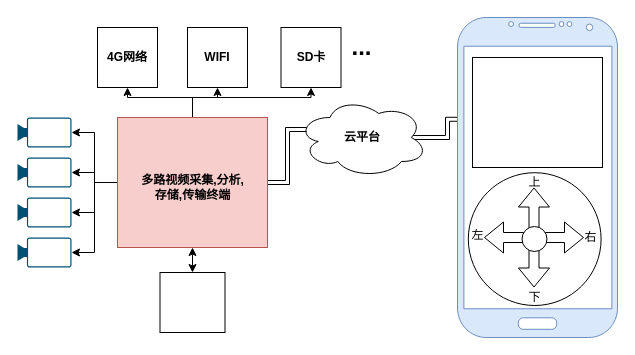
This 635x355 diagram has some shape labels left out. Each missing label, with the centre of its shape:
各种传感器: (x=192, y=302)
远程实时视频 / 历史视频: (x=537, y=112)
